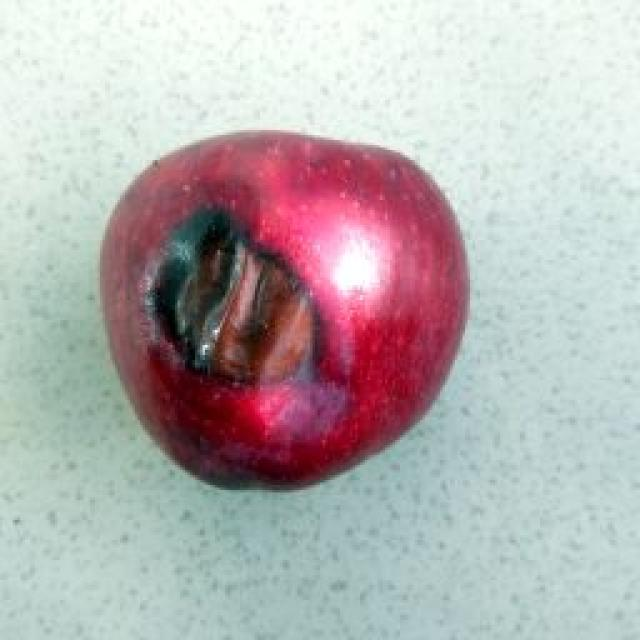Bad_Apple: (101, 131, 468, 487)
